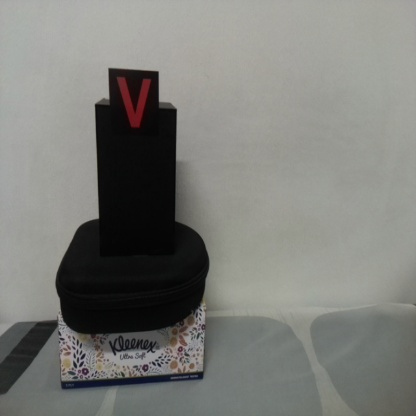id_11: (108, 70, 161, 143)
